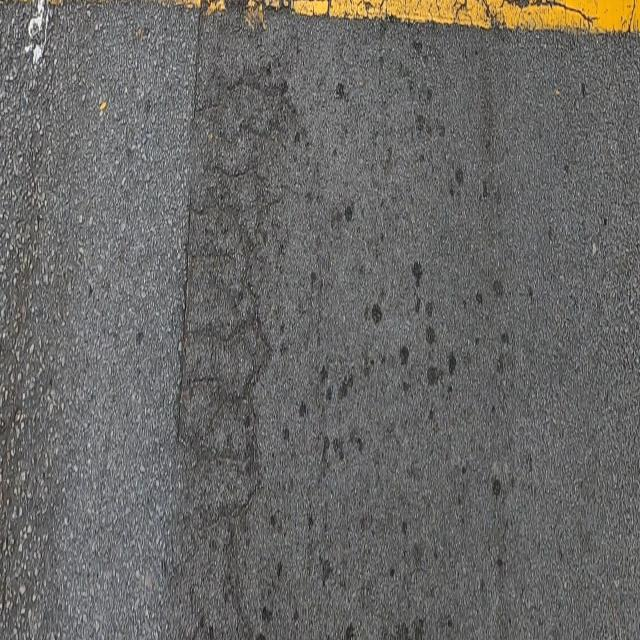Retak-Buaya: (176, 69, 298, 535)
